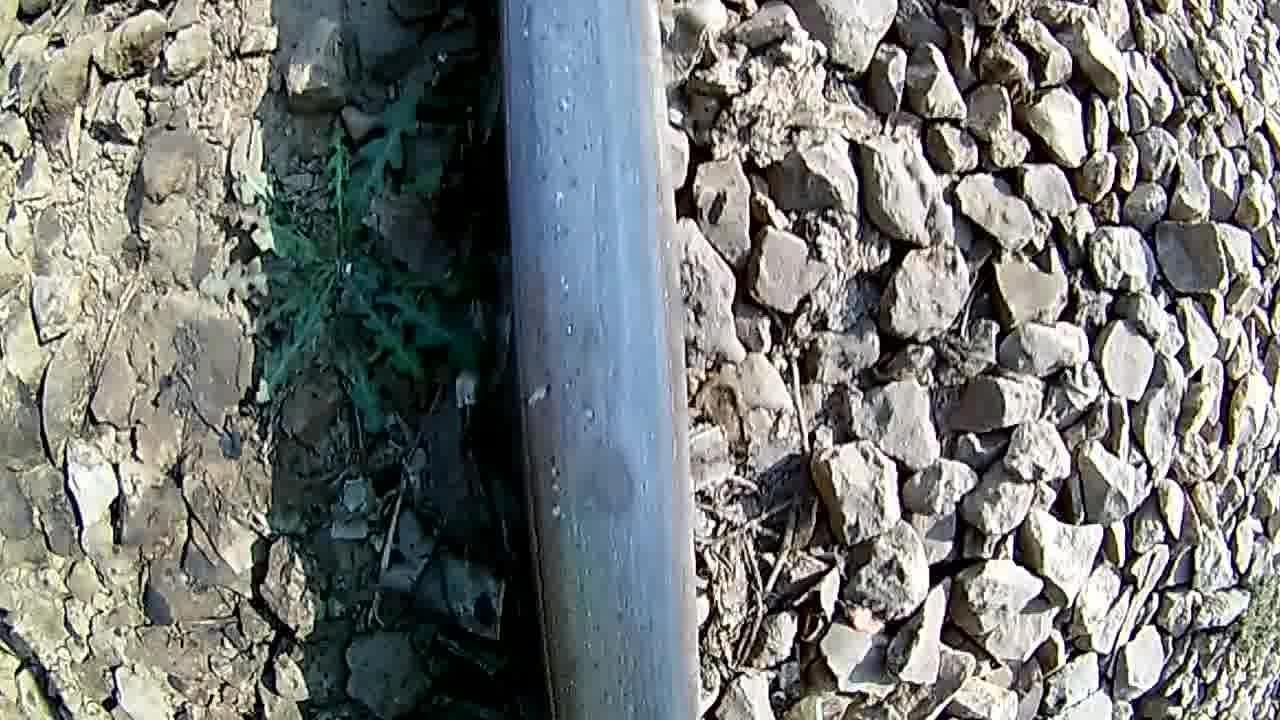crack: (510, 299, 661, 579)
